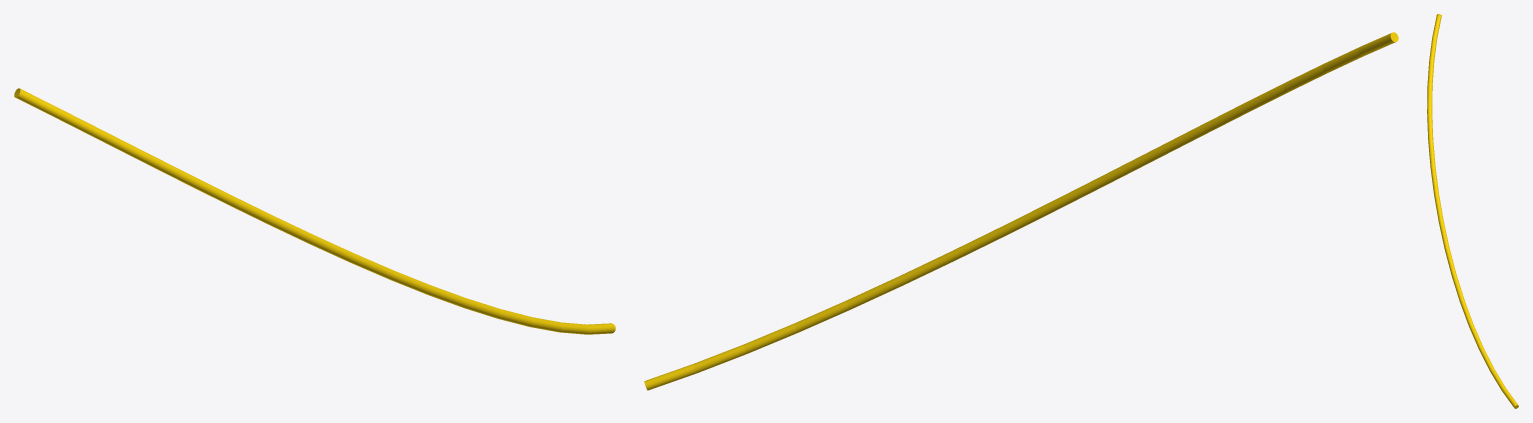
File: Event_421115418_track_205.fbx
3 views of the same model, side by side, from view 1: azimuth 30°, elevation 25°; view 2: azimuth 150°, elevation 25°; view 3: azimuth 270°, elevation 25° (orthographic). The views are drawn at different scales.
Parts seen in each view (by area): view 1: Model; view 2: Model; view 3: Model.
Part boxes in pixels (box(x1,y1,x2,y2)): Model: box(14, 88, 615, 334); Model: box(644, 32, 1398, 390); Model: box(1427, 14, 1518, 408).
Size of the model in its own units: 3.05 by 2 by 0.7176.
